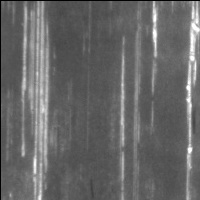scratches: (18, 2, 52, 199), (183, 2, 200, 200), (114, 35, 130, 200), (148, 1, 162, 124)
